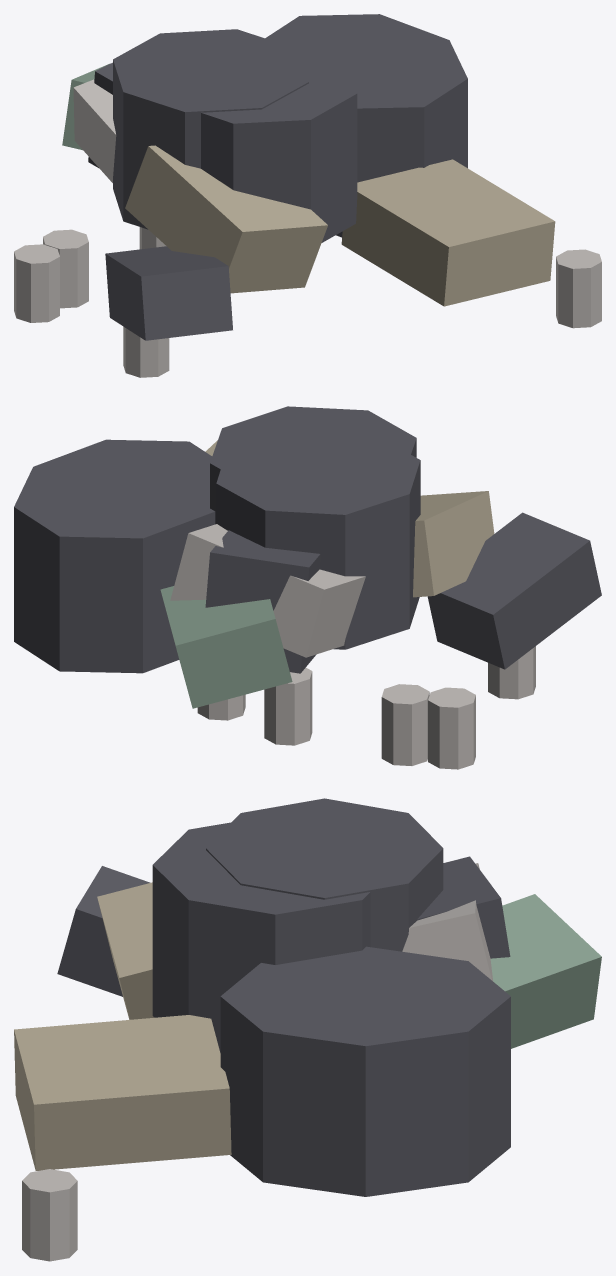
The model's file is dm_trashcluster.glb.
The picture shows the model from 3 angles, top to bottom: view 1: azimuth 30°, elevation 25°; view 2: azimuth 150°, elevation 25°; view 3: azimuth 270°, elevation 25°; orthographic projection. The views are drawn at different scales.
Visible parts, largest first — view 1: dm_trashcluster; view 2: dm_trashcluster; view 3: dm_trashcluster.
Part boxes in pixels (x1,y1,x2,y2): dm_trashcluster: (14, 14, 601, 377); dm_trashcluster: (14, 406, 601, 769); dm_trashcluster: (14, 798, 601, 1261).
Bounding box in the file's own units: 0.8584 × 0.4126 × 0.8478.
